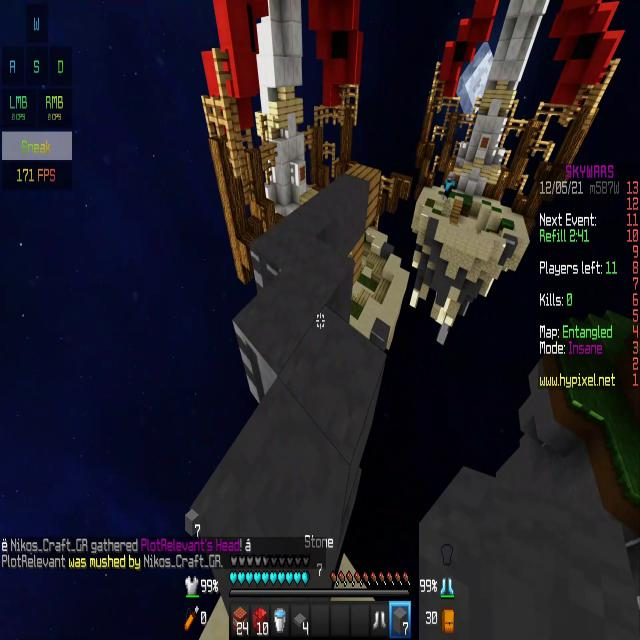Player: (440, 167, 457, 202)
